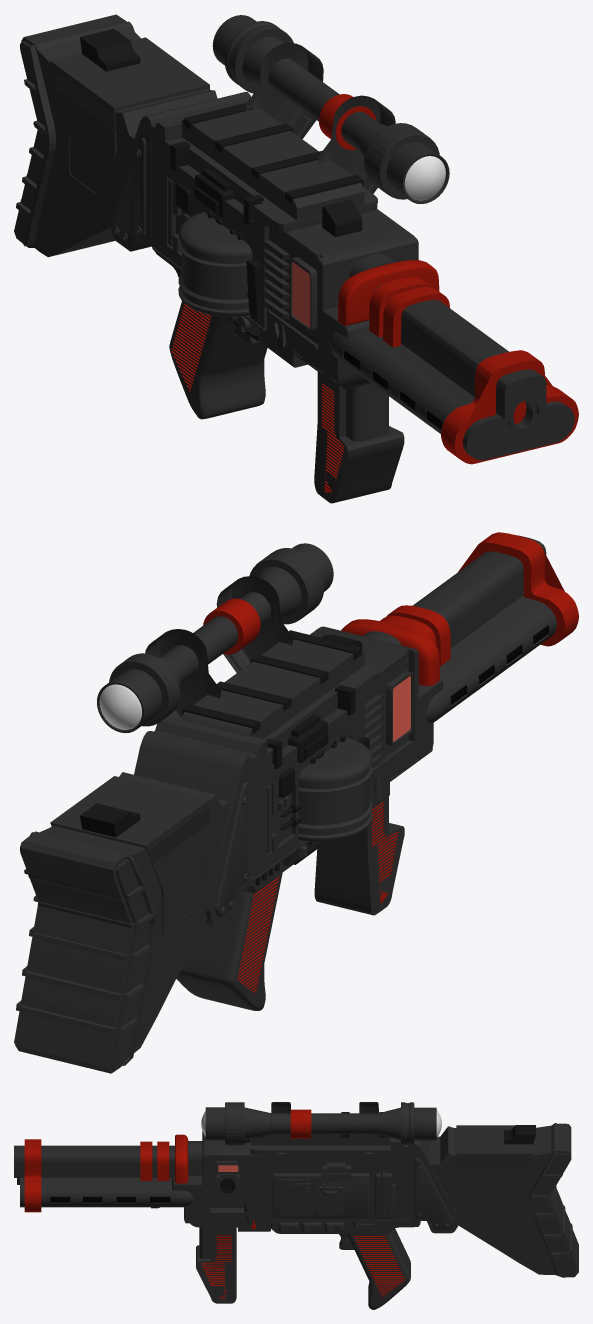
File: rifleShadow.fbx
3 views of the same model, one above another, from view 1: azimuth 30°, elevation 25°; view 2: azimuth 150°, elevation 25°; view 3: azimuth 270°, elevation 25° (orthographic). The views are drawn at different scales.
Visible parts, largest first — view 1: main; view 2: main; view 3: main.
Part boxes in pixels (x1,y1,x2,y2): main: [14, 14, 578, 503]; main: [14, 532, 578, 1073]; main: [14, 1102, 578, 1309].
Size of the model in its own units: 113 by 213 by 509.
